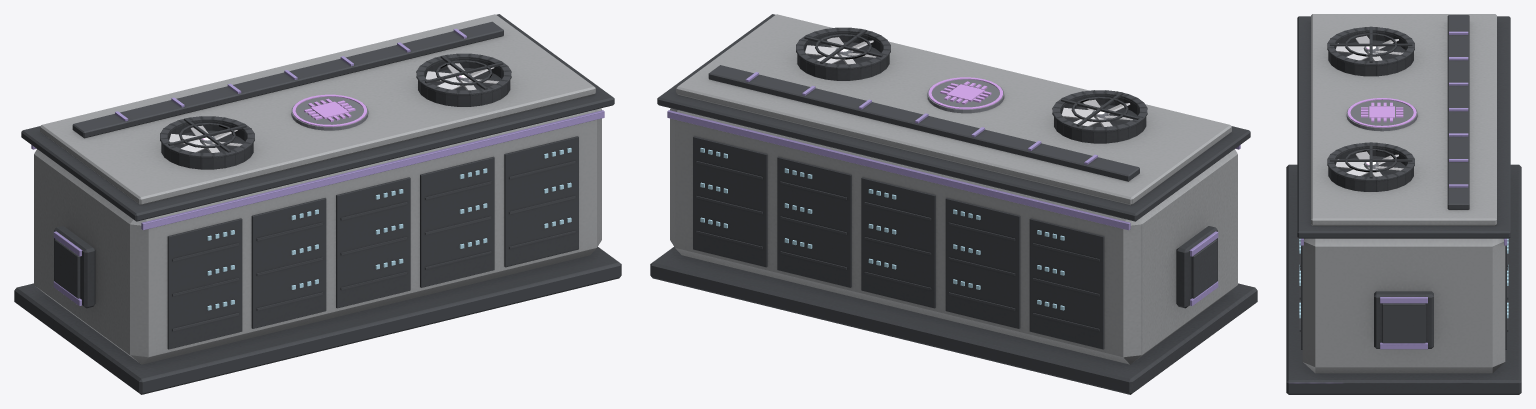
The model's file is SM_DataCenter.fbx.
3 renders of one model, left to right at view 1: azimuth 30°, elevation 25°; view 2: azimuth 150°, elevation 25°; view 3: azimuth 270°, elevation 25°, orthographic. The views are drawn at different scales.
Parts seen in each view (by area): view 1: SMN_DataCenter, Emblem_DataCenter, ServerLights, SpinFan_A, SpinFan_B; view 2: SMN_DataCenter, Emblem_DataCenter, ServerLights, SpinFan_A, SpinFan_B; view 3: SMN_DataCenter, Emblem_DataCenter, SpinFan_B, SpinFan_A.
Boxes of the visible parts, x1,y1,x2,y2 form: SMN_DataCenter: (14, 14, 621, 394); Emblem_DataCenter: (291, 94, 368, 130); ServerLights: (207, 148, 571, 310); SpinFan_A: (425, 63, 498, 90); SpinFan_B: (169, 125, 242, 152); SMN_DataCenter: (650, 14, 1257, 394); Emblem_DataCenter: (927, 77, 1004, 113); ServerLights: (700, 148, 1064, 310); SpinFan_A: (805, 37, 876, 64); SpinFan_B: (1061, 99, 1132, 126); SMN_DataCenter: (1286, 14, 1521, 394); Emblem_DataCenter: (1346, 98, 1417, 131); SpinFan_B: (1335, 35, 1403, 60); SpinFan_A: (1335, 151, 1403, 176).
Size of the model in its own units: 1.96 by 0.7475 by 0.86.
